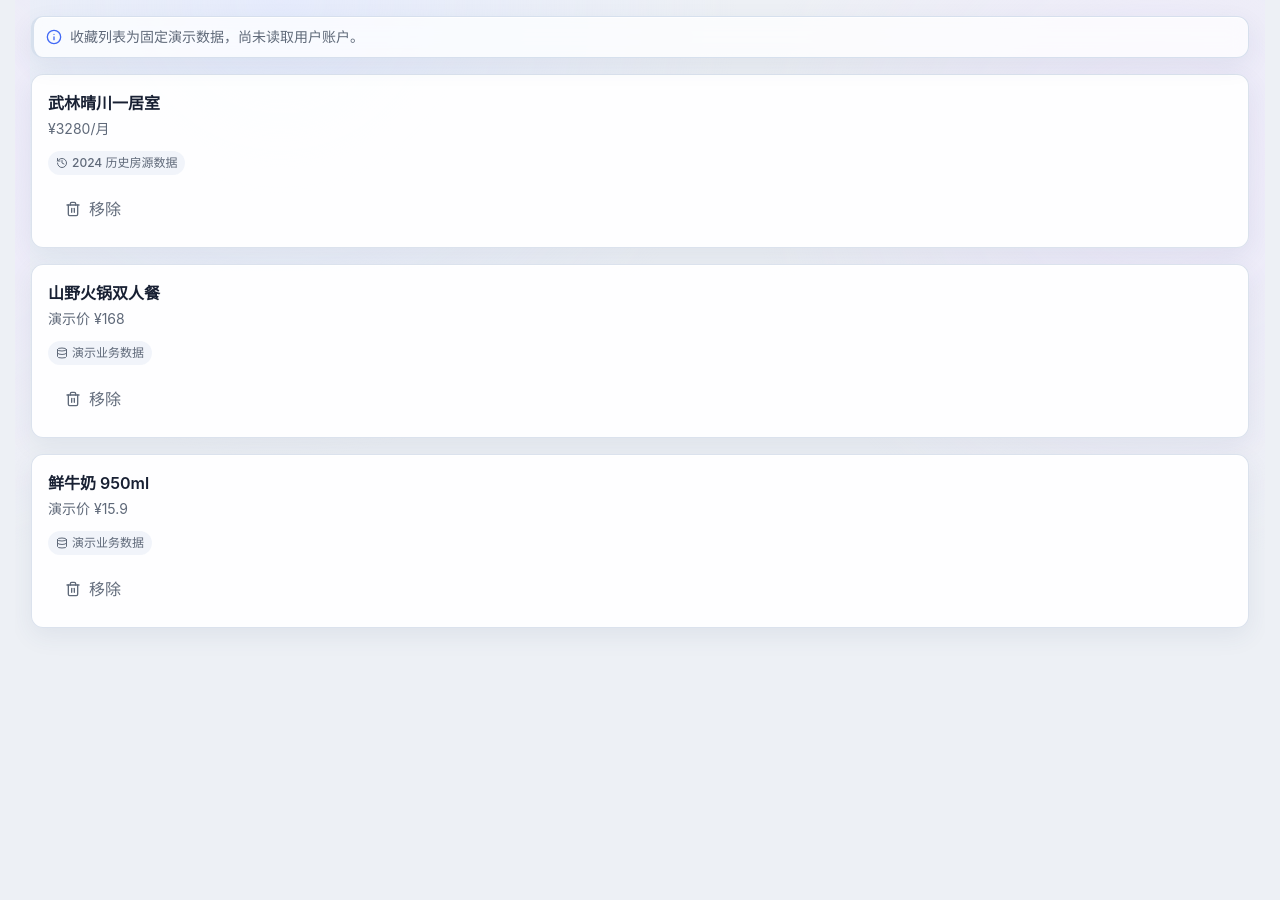
Test: account and knowledge admin demo flows › removes a favorite only from local page state
Click the button with aria-label "移除收藏" at (93, 209), box [48,187,138,231]
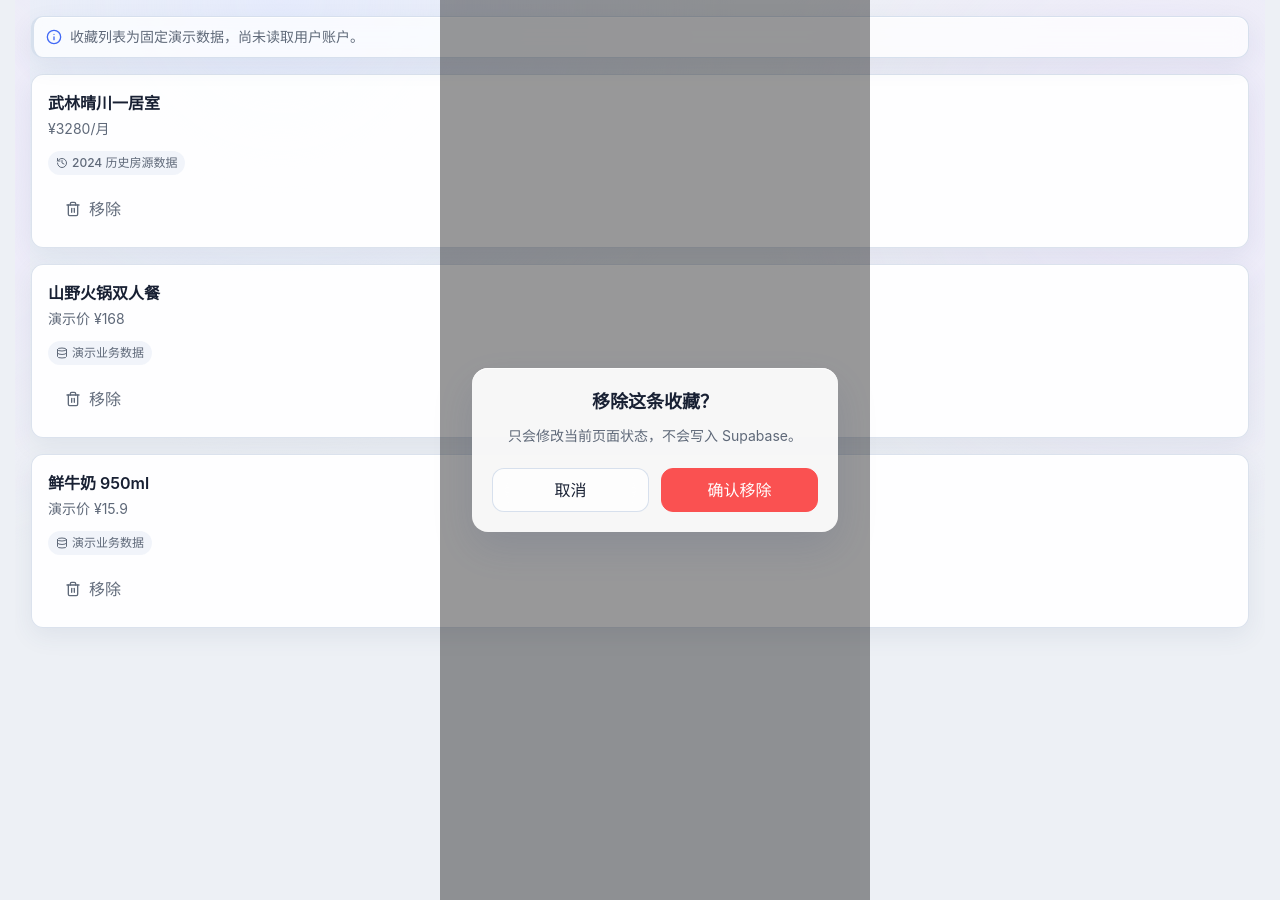
Expected: the dialog "移除这条收藏？" is shown, [472,368,838,532]
Click the button "确认移除" at (740, 490), box [661,468,818,512]
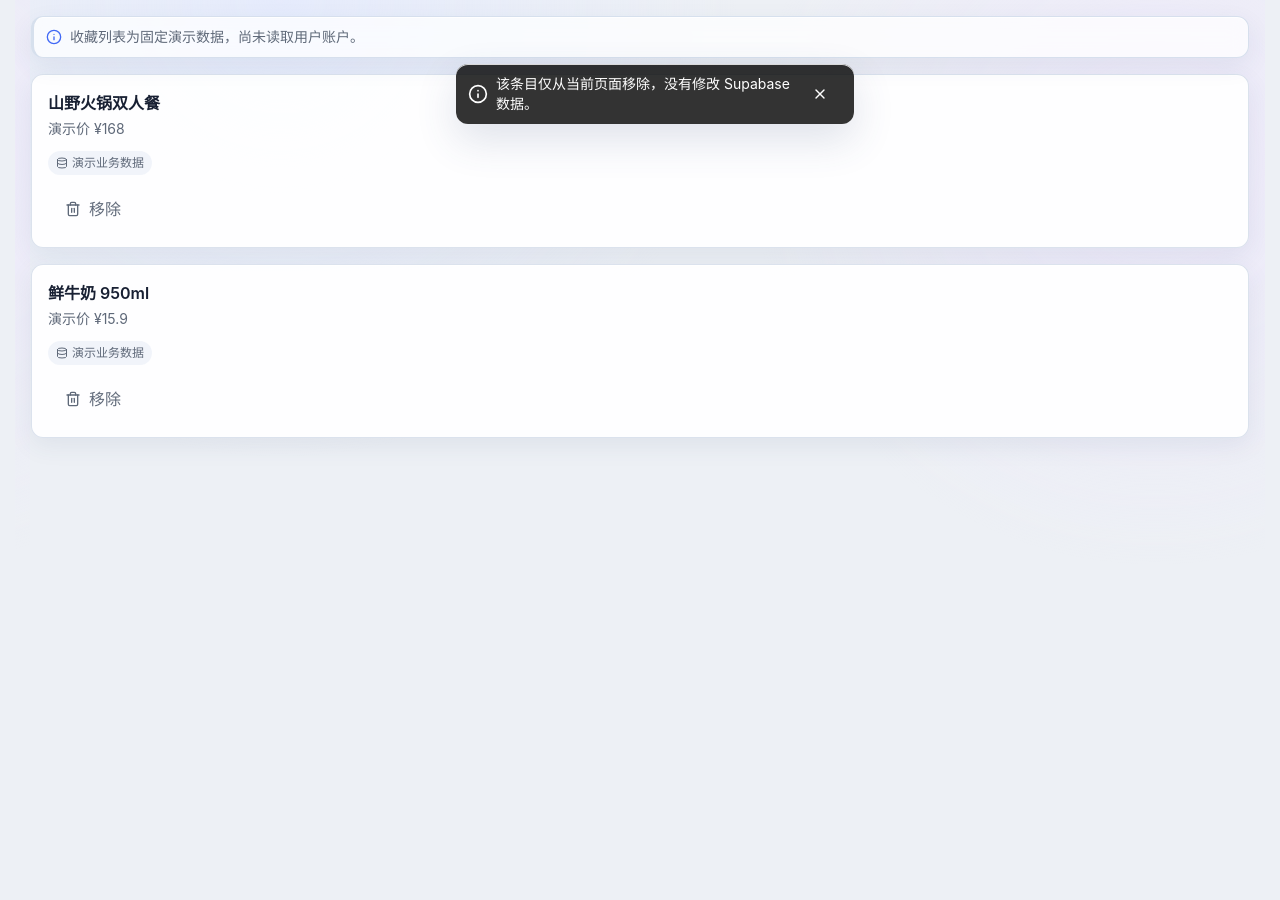
Expected: the text "该条目仅从当前页面移除，没有修改 Supabase 数据。" is shown, [496,74,790,114]
